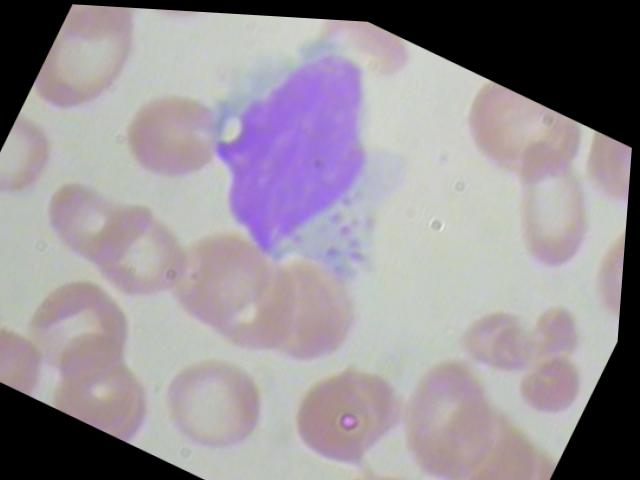Red Blood Cells: (473, 126, 629, 287), (8, 254, 163, 408), (277, 329, 436, 479), (377, 340, 514, 479), (150, 339, 290, 468), (102, 72, 241, 200), (27, 2, 157, 132), (442, 68, 578, 188), (81, 193, 207, 312), (31, 170, 155, 282), (110, 5, 246, 44)
White Blood Cells: (149, 8, 470, 306)
